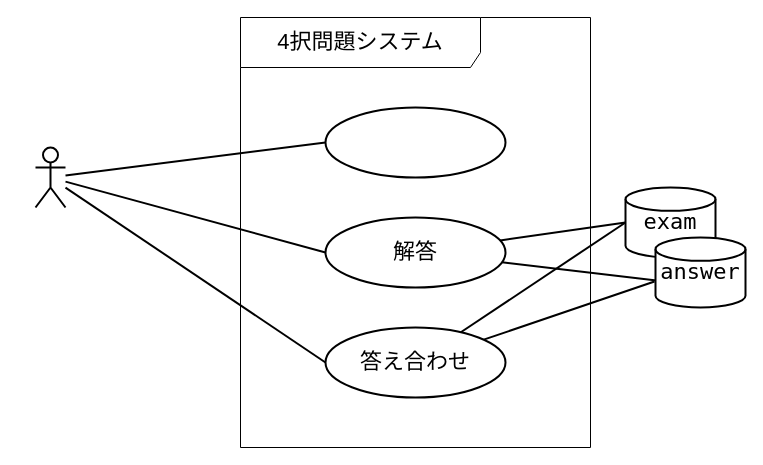
The diagram is 763 pixels wide and 465 high, and some of its shapes have lost their labels. Each missing label, with the box of its shape:
表紙: (324, 106, 506, 178)
解答者: (34, 146, 66, 208)
